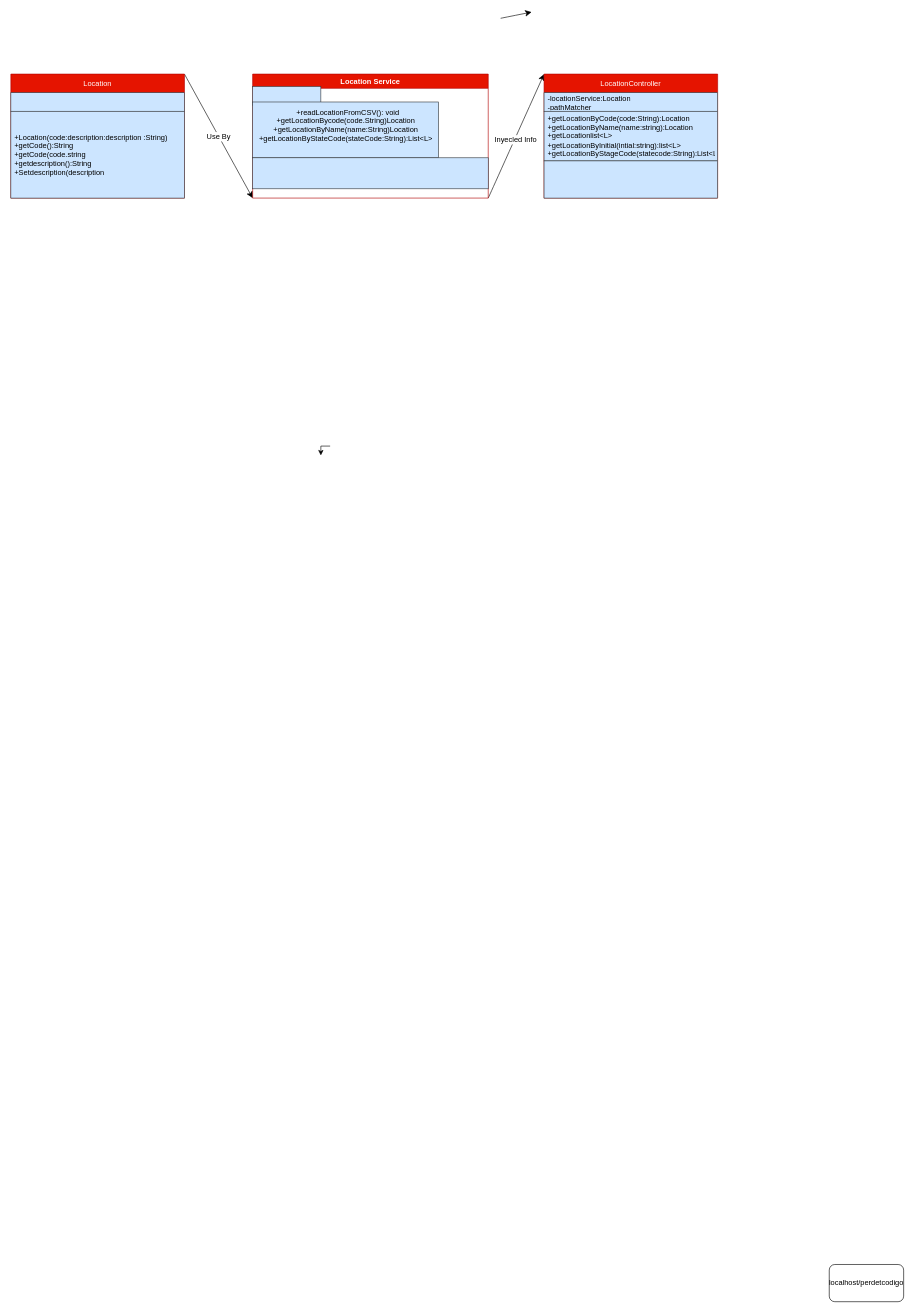
The diagram is 915 pixels wide and 1313 high, and some of its shapes have lost their labels. The shapes that lost their labels are listed below. From the top down, each one's box as (x1, y1, x2, y2) in pixels, then its label:
(10, 92, 184, 111): --code string --description
(252, 86, 321, 105): -location: List>
(252, 157, 488, 189): +getLocationsByInitialLetter(Letter:String):List<L> +getStage():List<L>
(543, 160, 718, 198): +getLocationByStates():List<L> +getStageByCode)satateCode:string):Liocation
